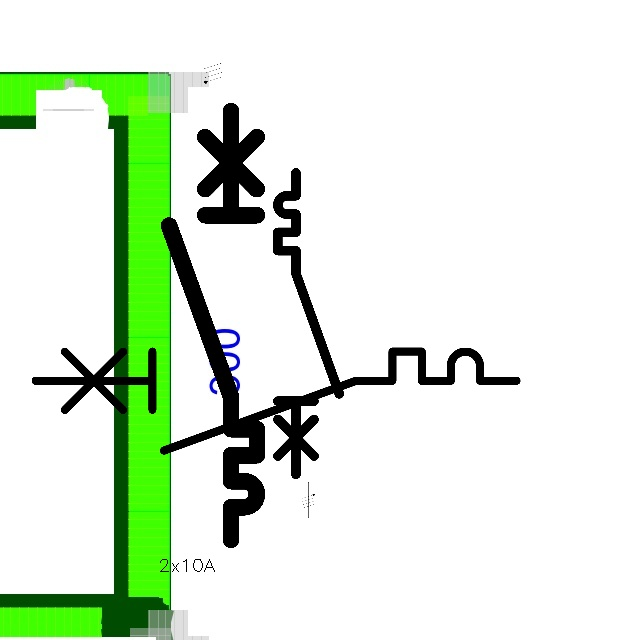interruptor_termomagnetico: (23, 339, 529, 463), (158, 100, 268, 551), (270, 165, 347, 482)
